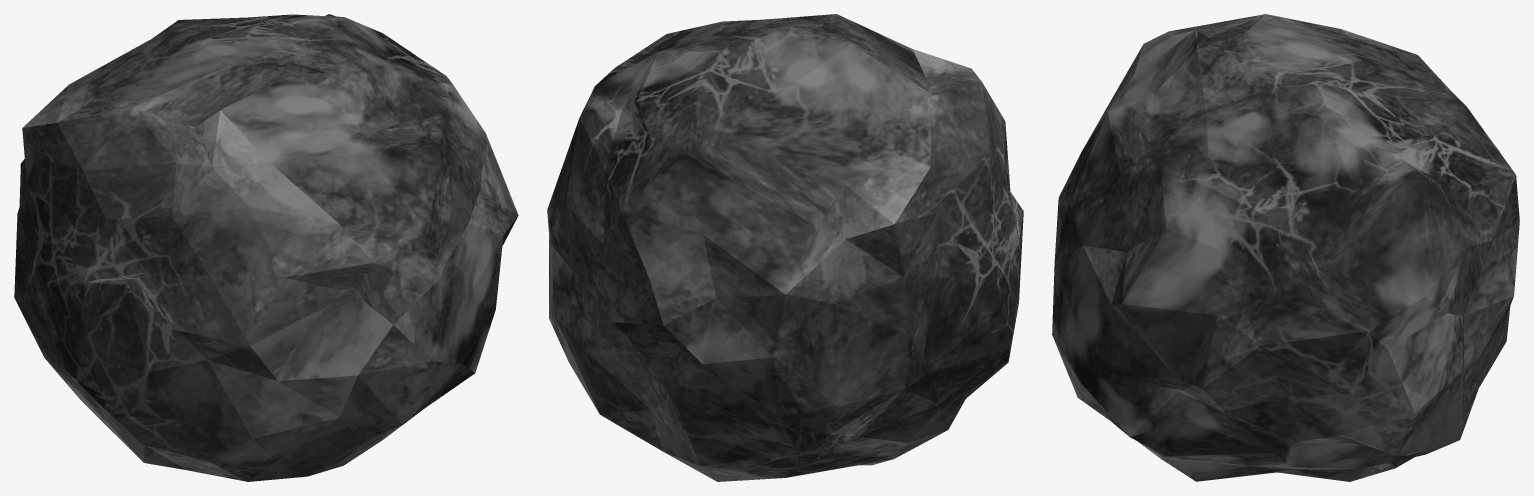
File: asteroid-40m.fbx
3 renders of one model, left to right at view 1: azimuth 30°, elevation 25°; view 2: azimuth 150°, elevation 25°; view 3: azimuth 270°, elevation 25°, orthographic.
Visible parts, largest first — view 1: Asteroid-40m; view 2: Asteroid-40m; view 3: Asteroid-40m.
Part boxes in pixels (x1,y1,x2,y2): Asteroid-40m: (14,14,518,481); Asteroid-40m: (547,14,1023,481); Asteroid-40m: (1052,14,1519,481).
Bounding box in the file's own units: 4029 × 3809 × 3740.
